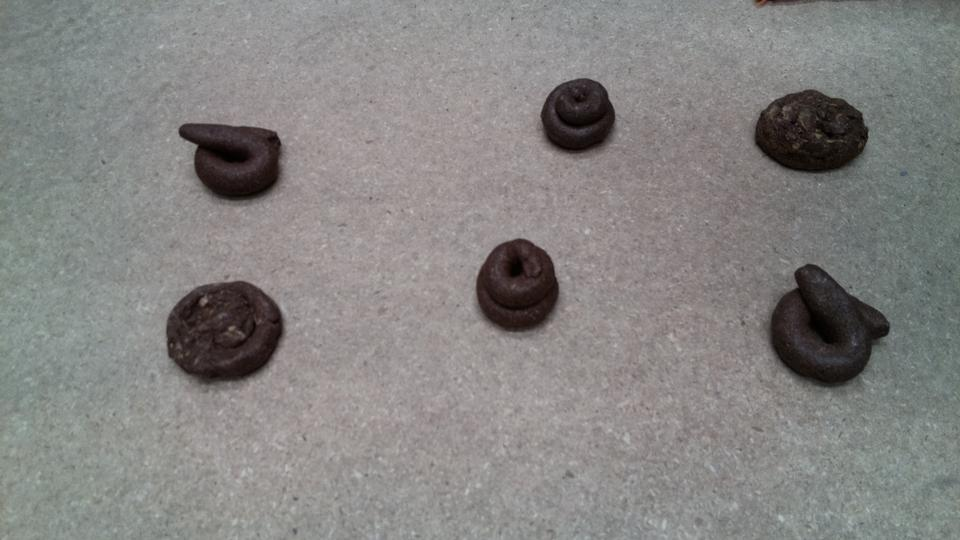poop: (767, 260, 894, 389), (162, 277, 288, 384), (753, 87, 871, 177), (176, 118, 285, 202), (473, 236, 563, 336), (537, 75, 622, 157)
